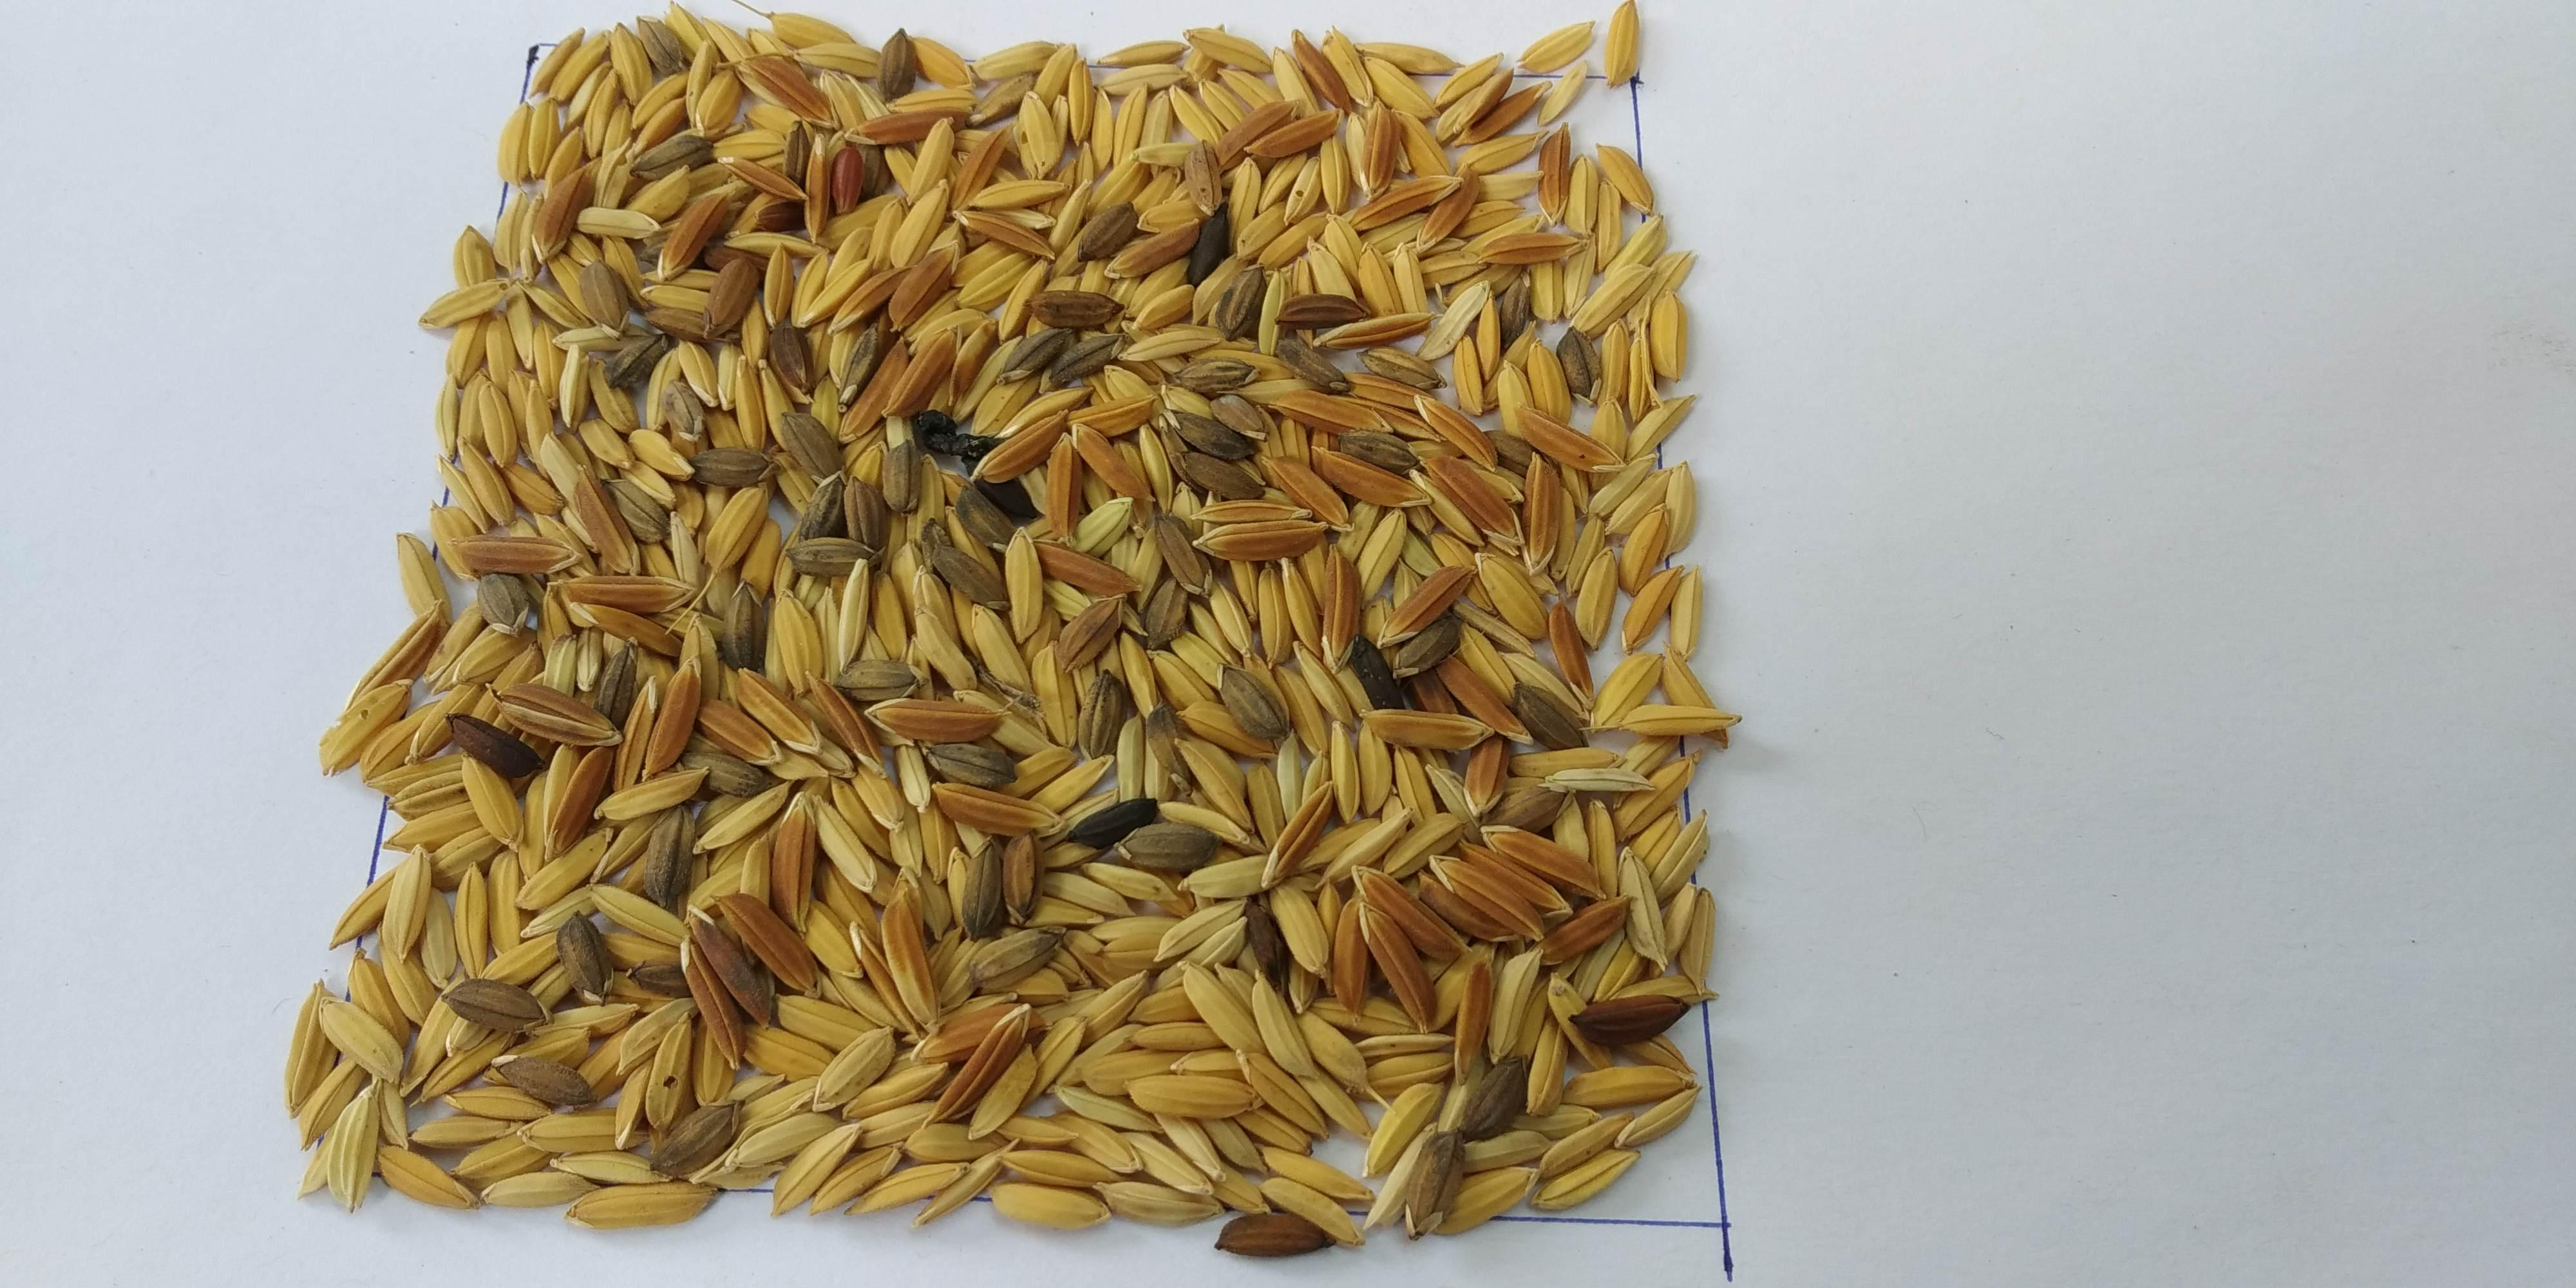impure: (527, 66, 1544, 1170)
